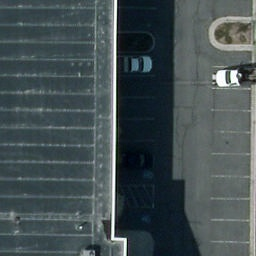car: (106, 153, 156, 170)
pickup: (99, 56, 154, 74)
